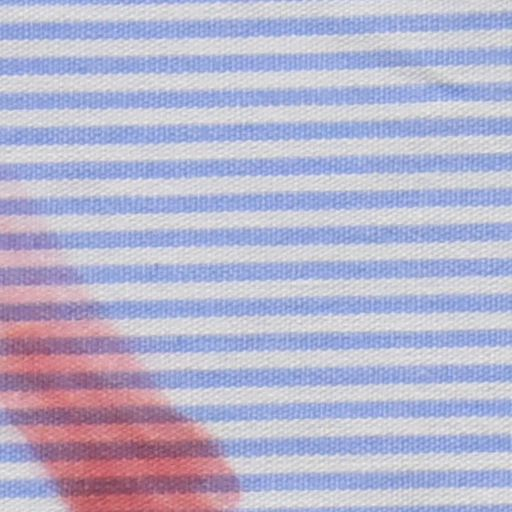defect: (1, 208, 243, 512)
